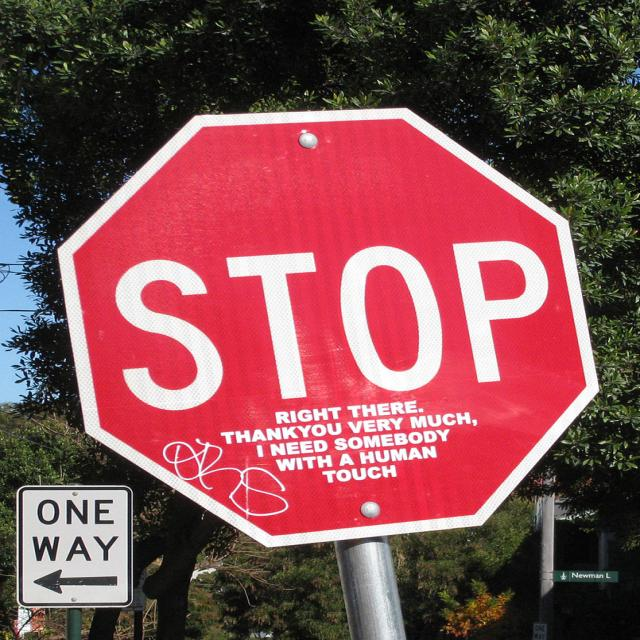Stop-sign: (55, 107, 602, 550)
